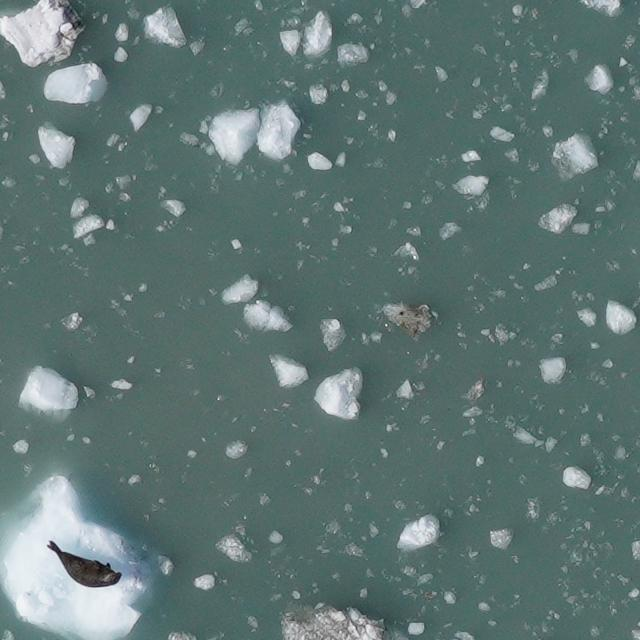seal: (35, 537, 125, 599)
